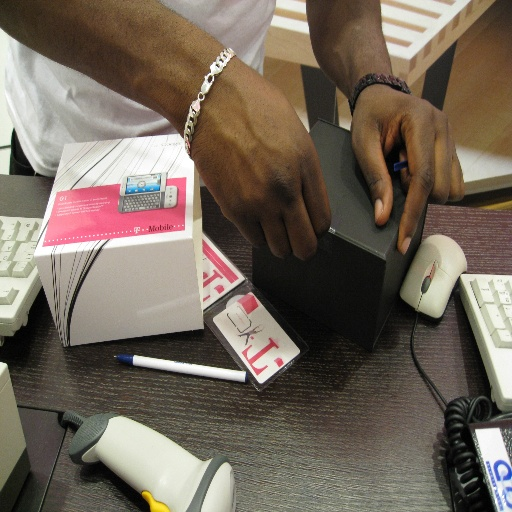hand: (180, 54, 332, 263), (345, 64, 459, 244)
